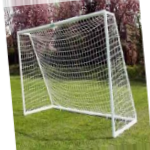goals: (16, 8, 138, 141)
